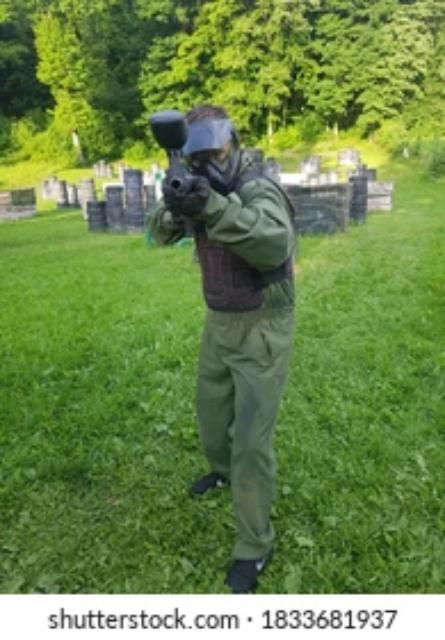other: (156, 104, 291, 574)
